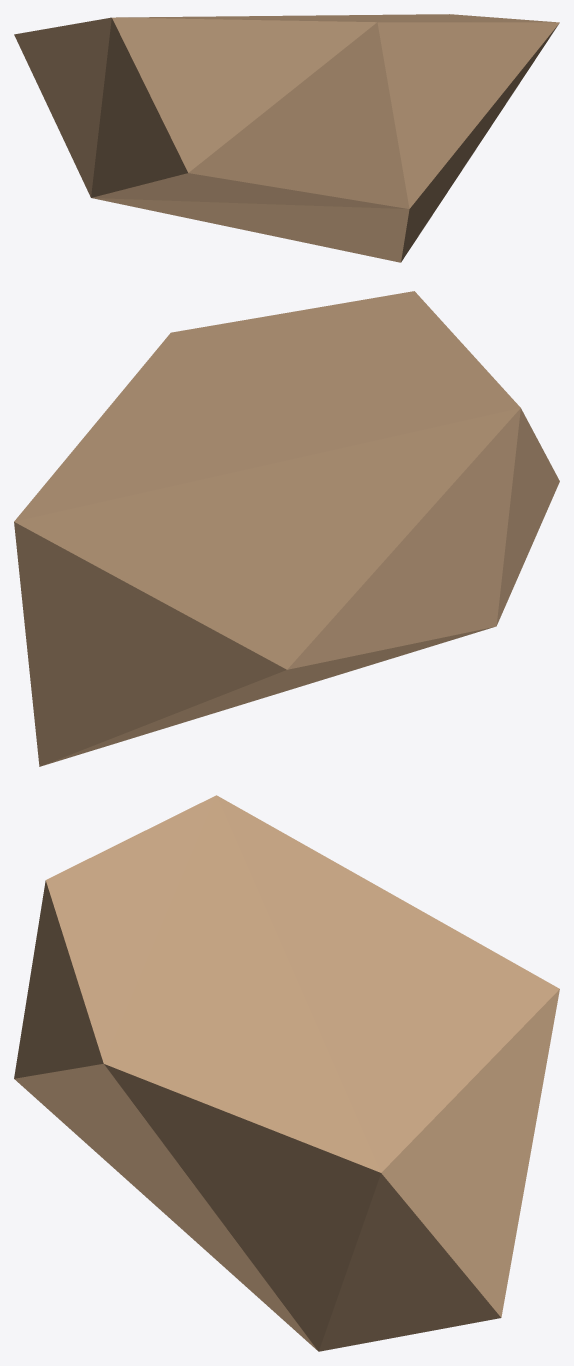
File: Stone_9.fbx
3 renders of one model, top to bottom at view 1: azimuth 30°, elevation 25°; view 2: azimuth 150°, elevation 25°; view 3: azimuth 270°, elevation 25°, orthographic. The views are drawn at different scales.
Visible parts, largest first — view 1: Stone_9; view 2: Stone_9; view 3: Stone_9.
Part boxes in pixels (box(x1,y1,x2,y2)): Stone_9: box(14, 14, 559, 262); Stone_9: box(14, 291, 559, 766); Stone_9: box(14, 795, 559, 1351).
Size of the model in its own units: 126 by 108 by 136.
